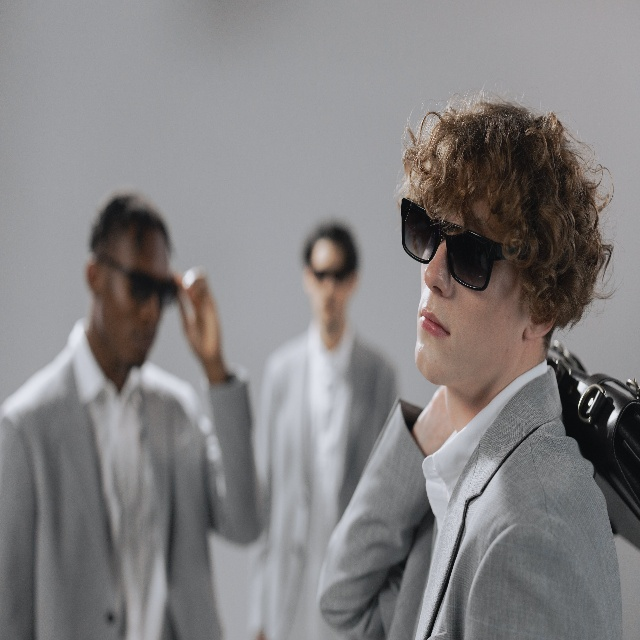Gafas: (400, 195, 506, 292), (102, 254, 176, 309), (311, 268, 347, 282)
Sin_guantes: (179, 265, 220, 362)
